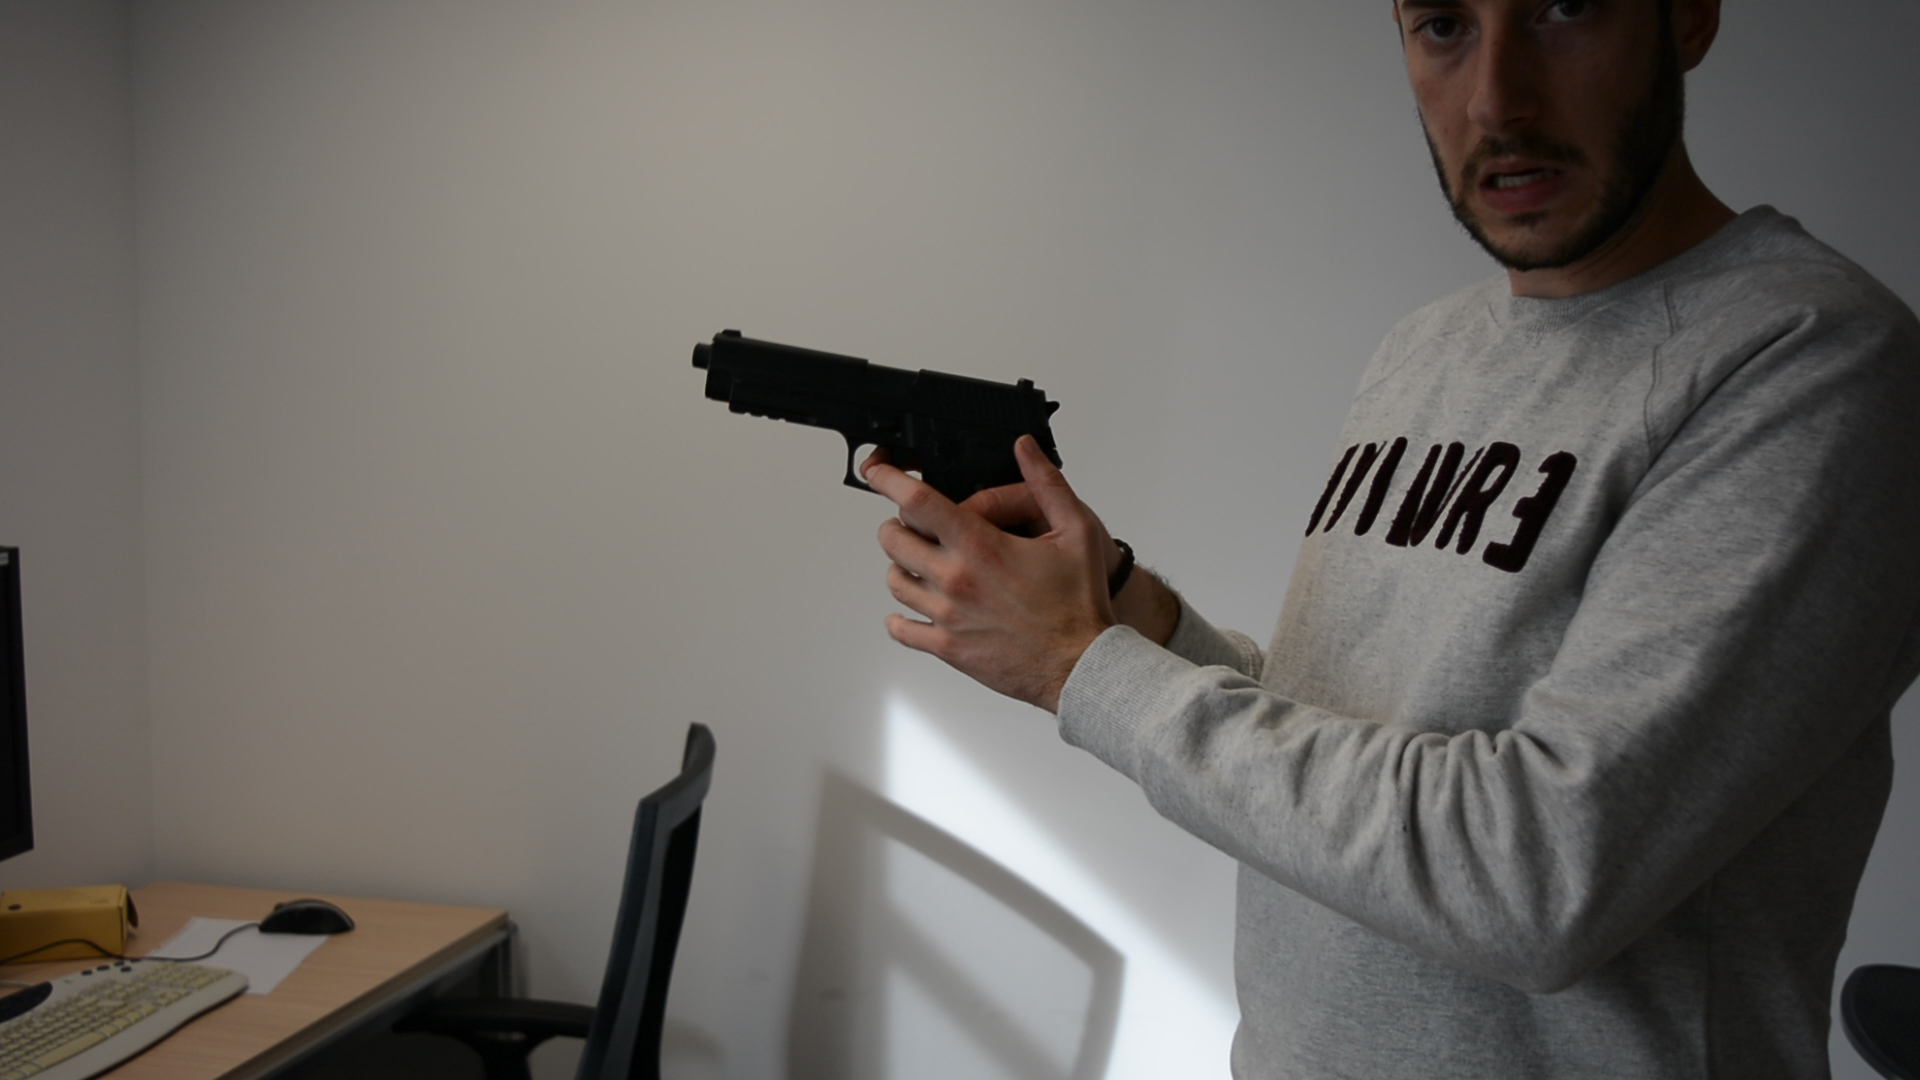pistol: (691, 327, 1067, 510)
